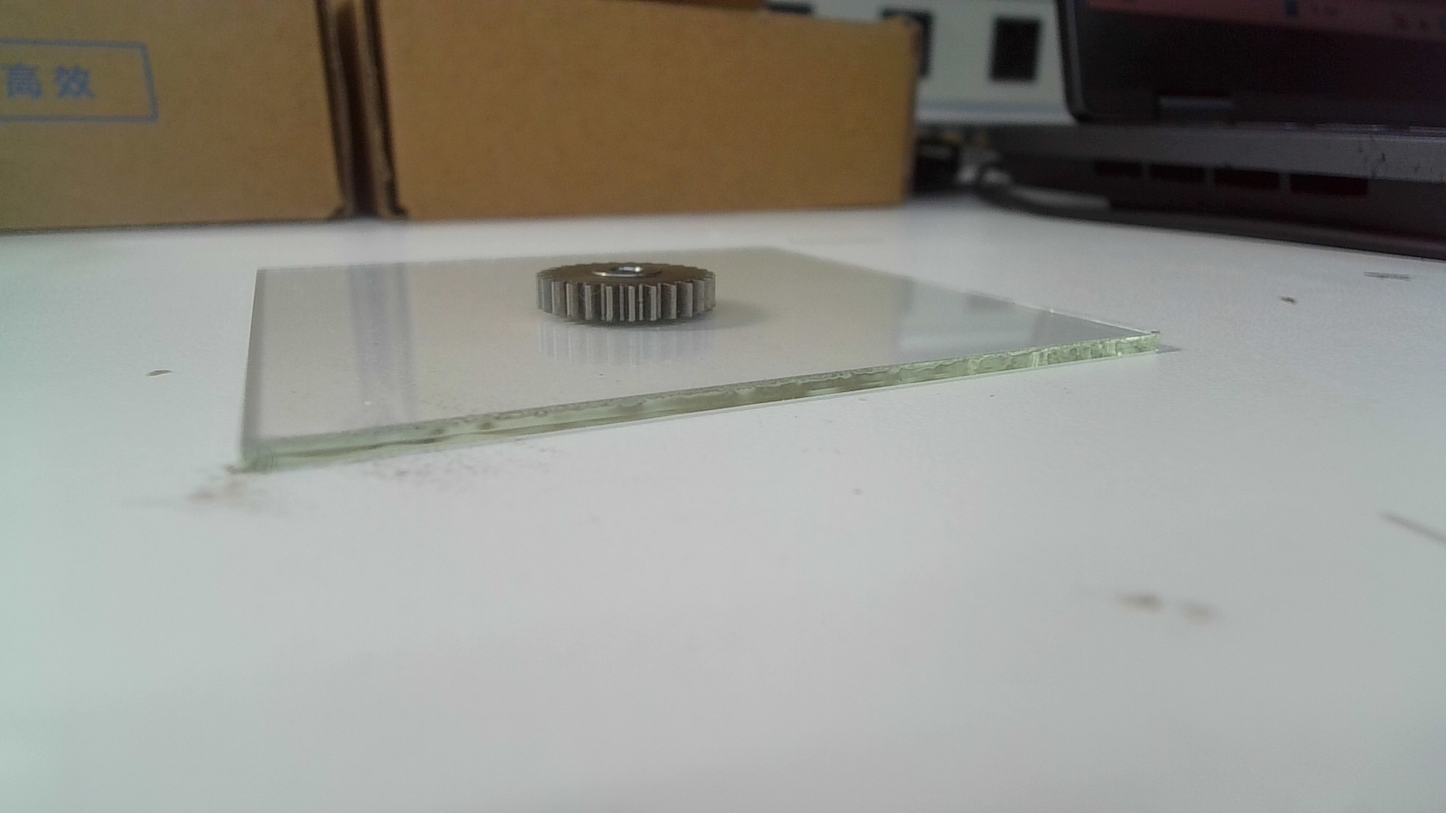gear: (531, 259, 722, 327)
